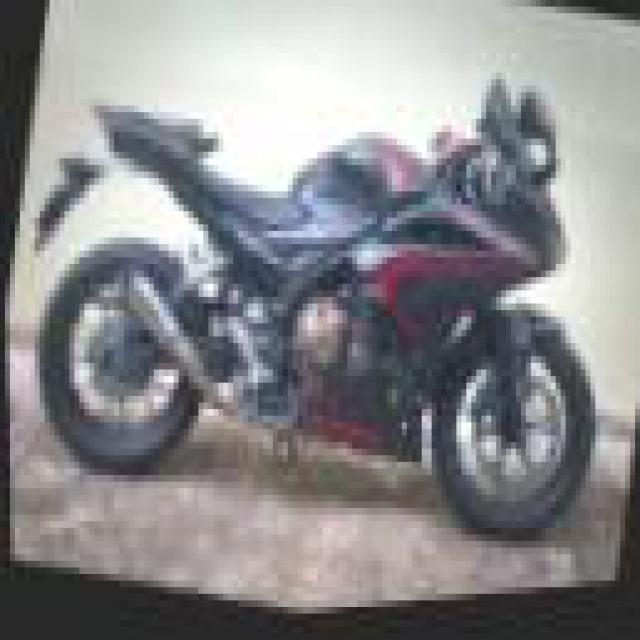CBR500R: (0, 0, 635, 620)
